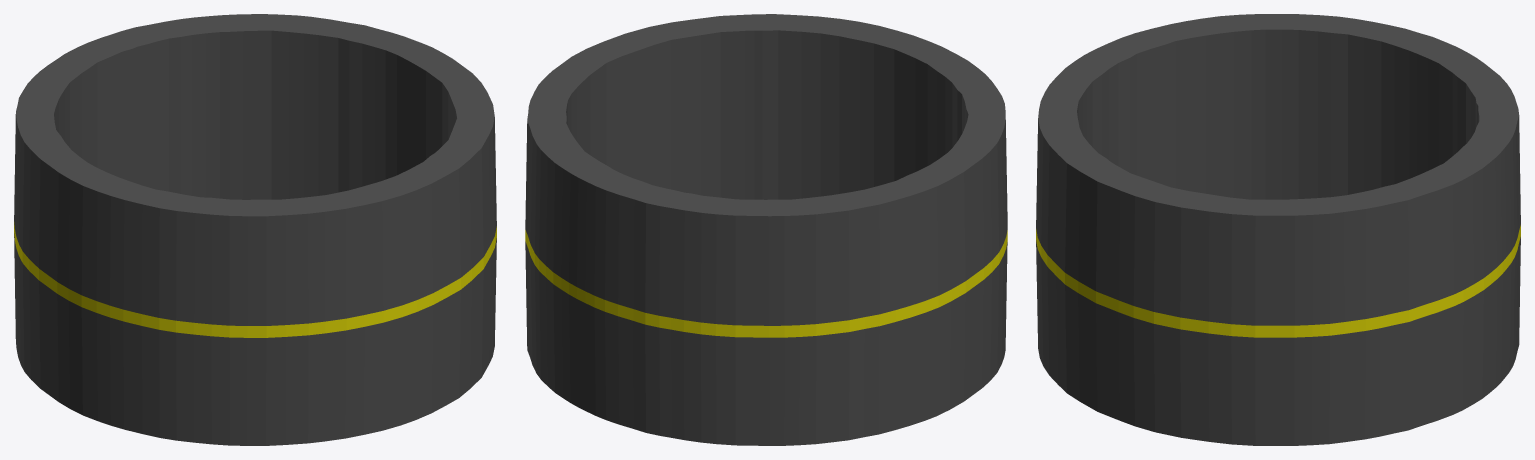
The model's file is road.fbx.
3 renders of one model, left to right at view 1: azimuth 30°, elevation 25°; view 2: azimuth 150°, elevation 25°; view 3: azimuth 270°, elevation 25°, orthographic.
Parts seen in each view (by area): view 1: Plane; view 2: Plane; view 3: Plane.
Part boxes in pixels (x1,y1,x2,y2): Plane: (14,14,496,445); Plane: (525,14,1007,445); Plane: (1036,14,1520,445).
Size of the model in its own units: 403 by 213 by 406.
